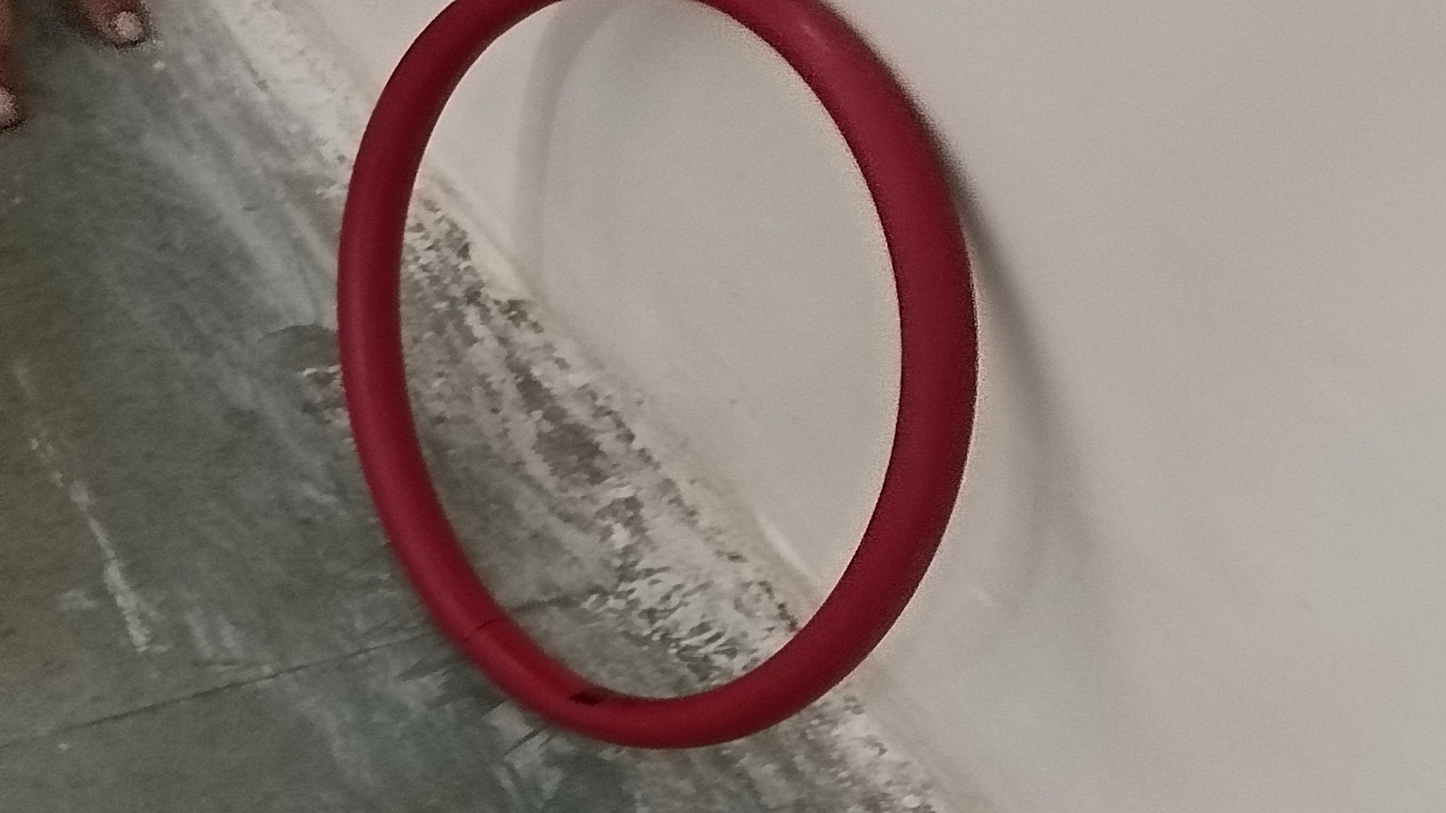Red ring: (342, 8, 975, 750)
